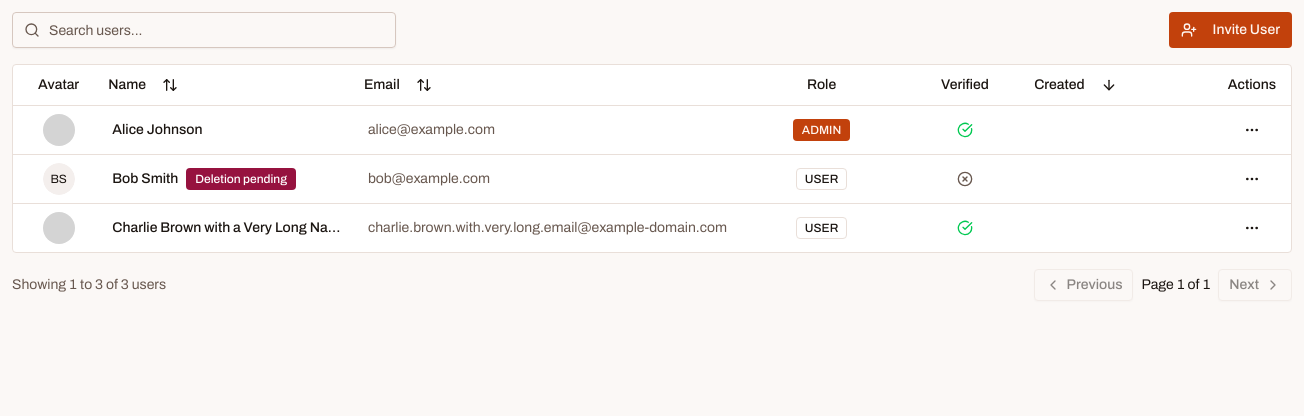
Test: components/admin/user-table › a user whose deletion is pending (t-845) › still offers Delete for a user whose deletion is not pending
# Charlie (erasureRequestedAt null) is the third row.
Click the 3rd button named "open menu" at (1252, 228), box left=1236, top=212, right=1268, bottom=244
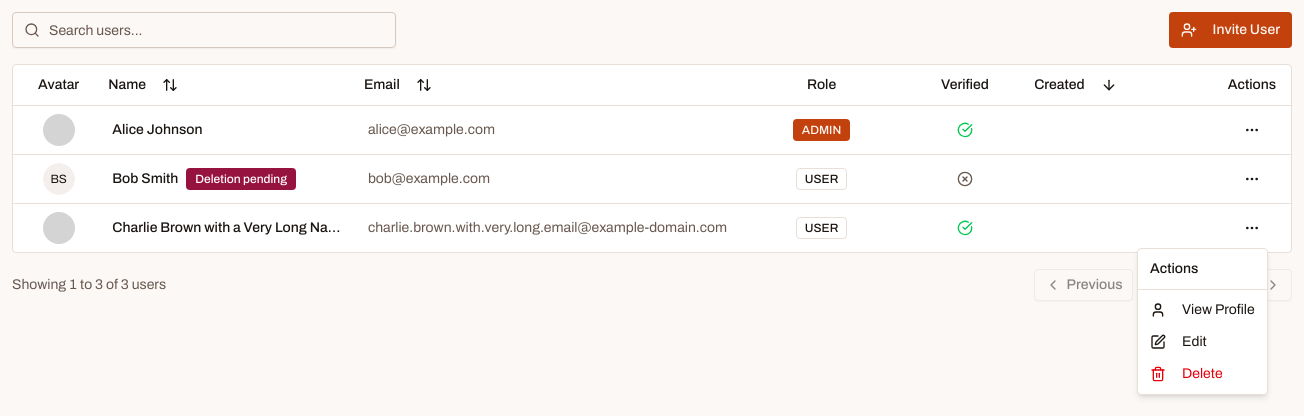
Result: the menu item "Delete" is shown at left=1150, top=366, right=1223, bottom=382
